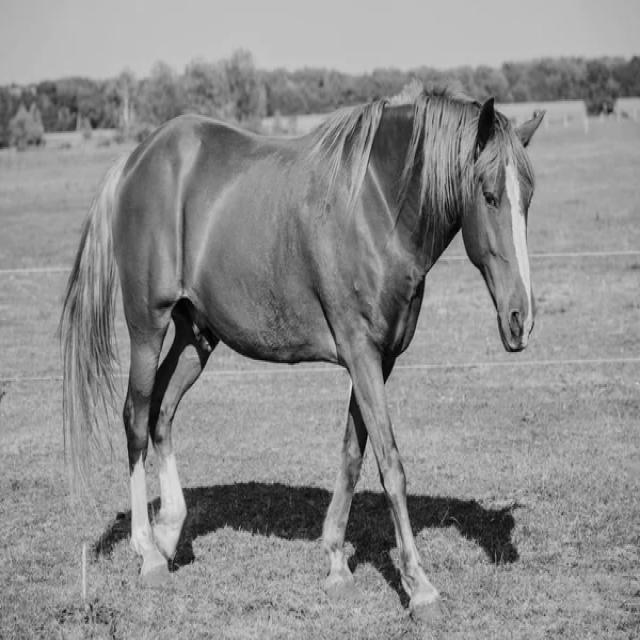Animal: (60, 83, 543, 620)
